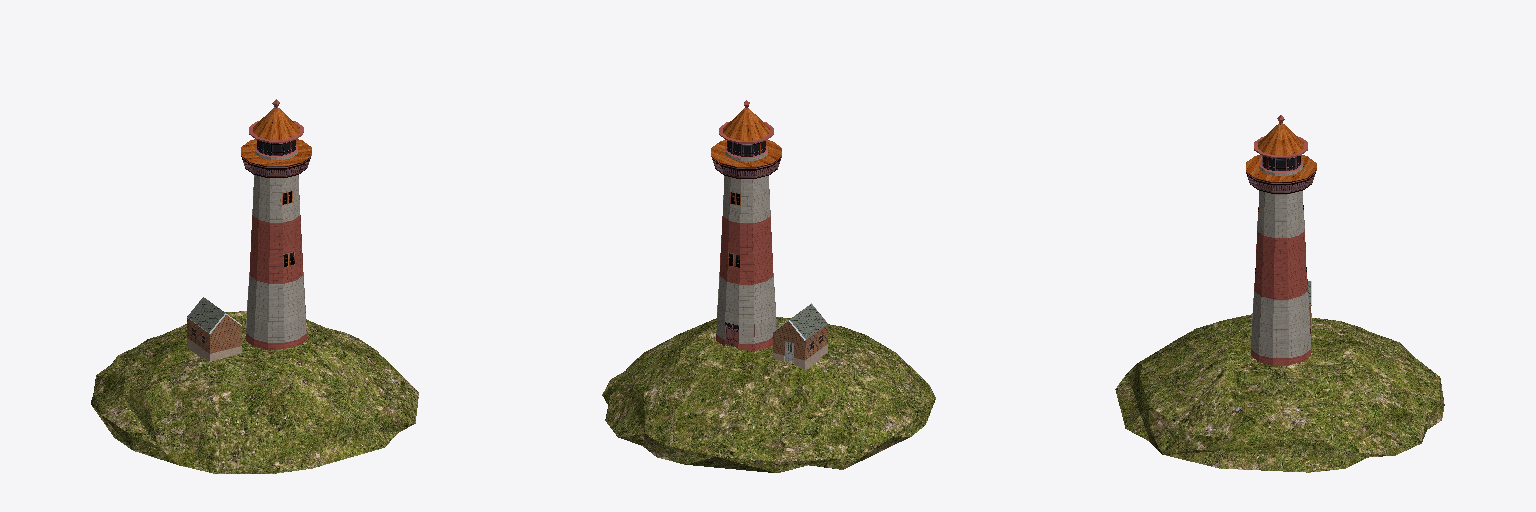
3 renders of one model, left to right at view 1: azimuth 30°, elevation 25°; view 2: azimuth 150°, elevation 25°; view 3: azimuth 270°, elevation 25°, orthographic.
Size of the model in its own units: 46.26 by 47.02 by 46.31.
Materials: 3 (3 with a texture image).